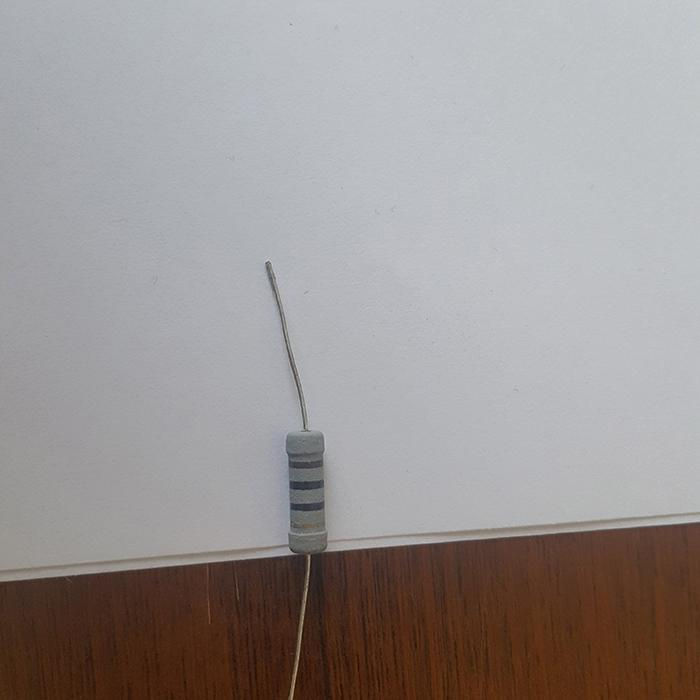resistor: (284, 426, 329, 555)
